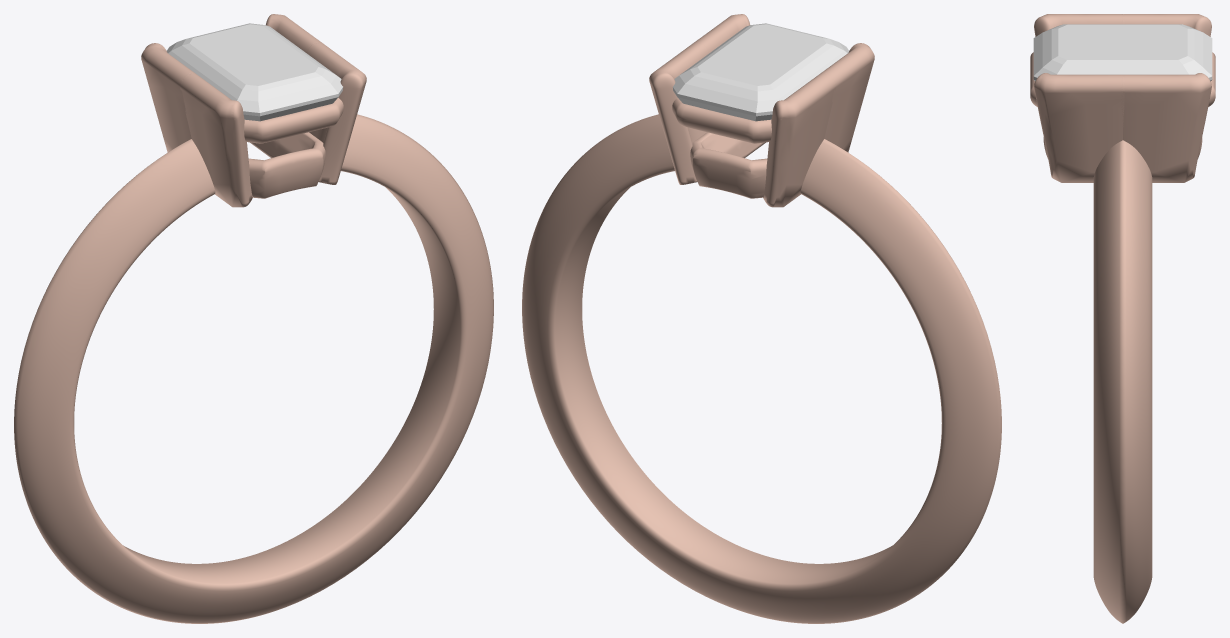
The model's file is diamond-emerald-rosegold-halfmoonbezel-knifeedge-solitaire.glb.
3 renders of one model, left to right at view 1: azimuth 30°, elevation 25°; view 2: azimuth 150°, elevation 25°; view 3: azimuth 270°, elevation 25°, orthographic.
Visible parts, largest first — view 1: metal.002, stone; view 2: metal.002, stone; view 3: metal.002, stone.
Boxes of the visible parts, <box> form: metal.002: <box>14,14,493,623</box>; stone: <box>167,23,343,121</box>; metal.002: <box>522,14,1001,623</box>; stone: <box>673,23,848,121</box>; metal.002: <box>1030,14,1215,623</box>; stone: <box>1033,24,1212,81</box>.
Bounding box in the file's own units: 20.5 × 22.94 × 6.94.
